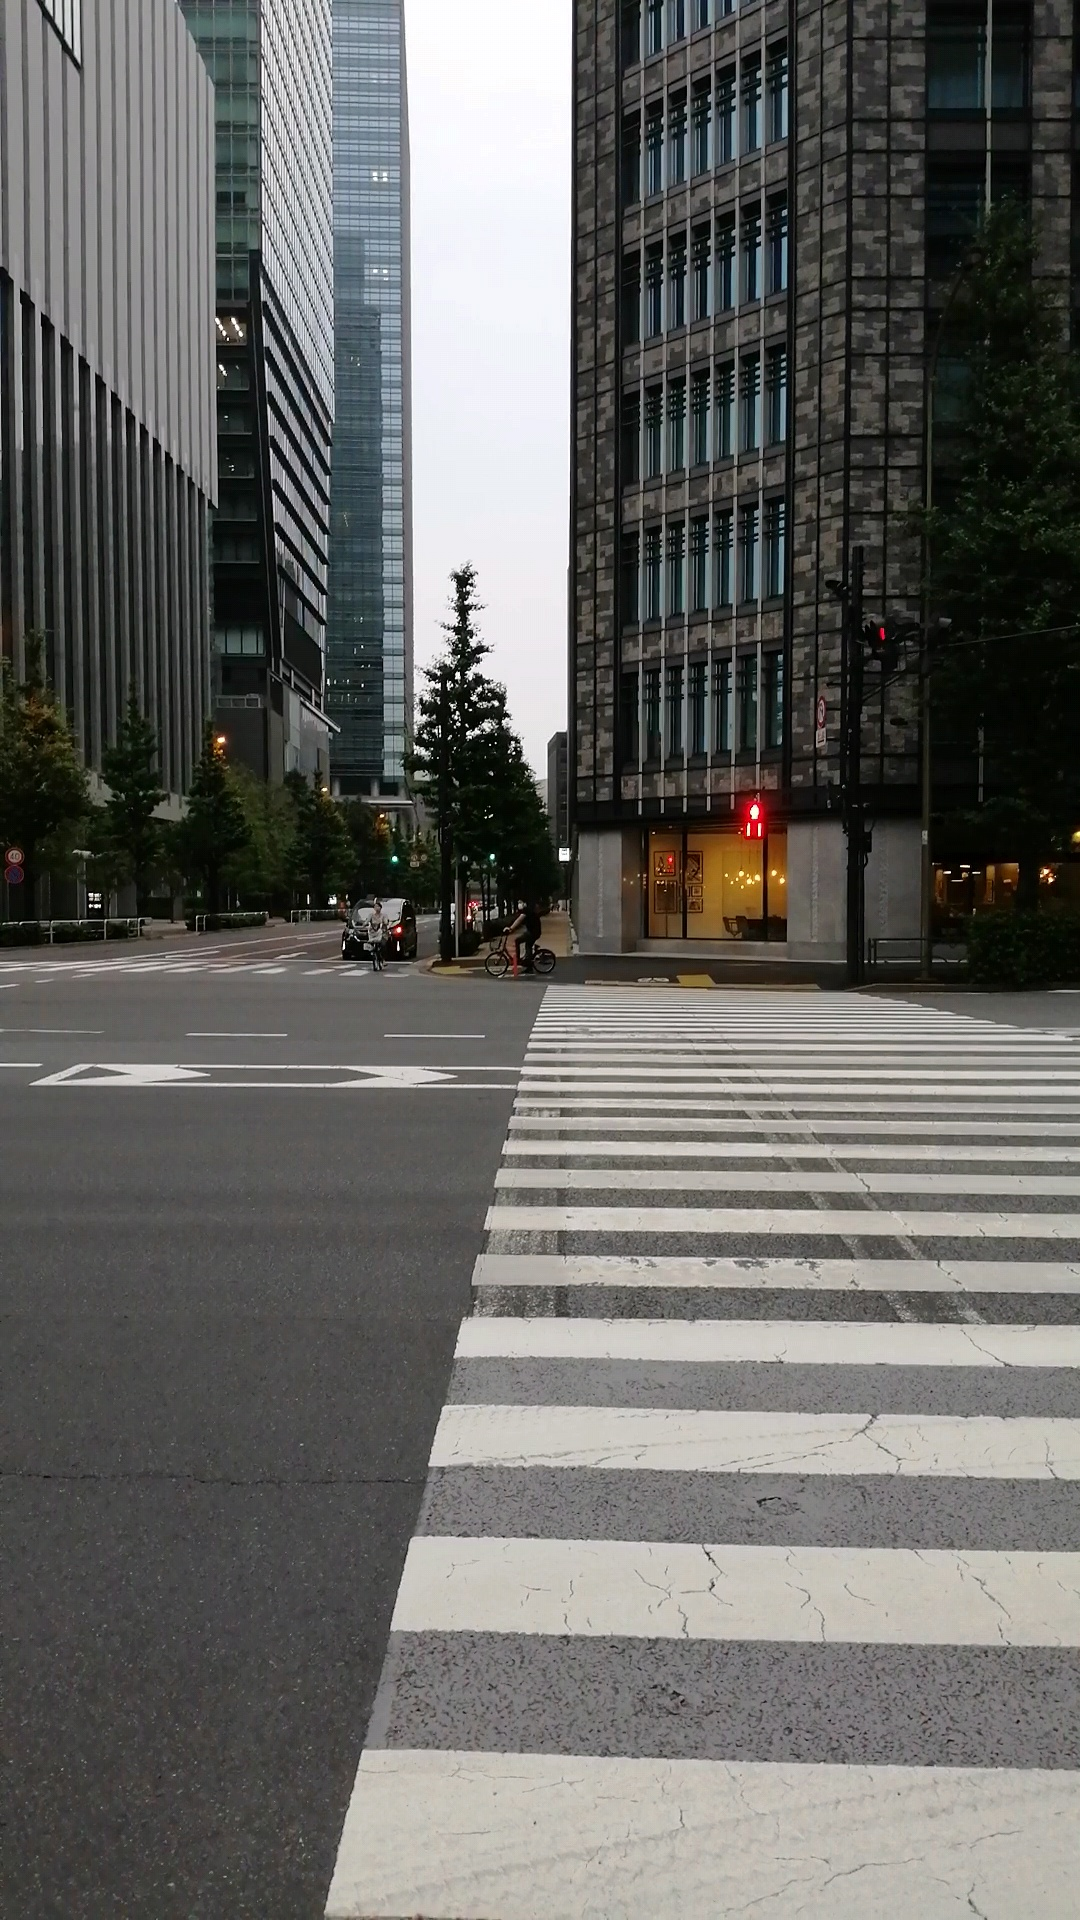red: (741, 799, 764, 840)
